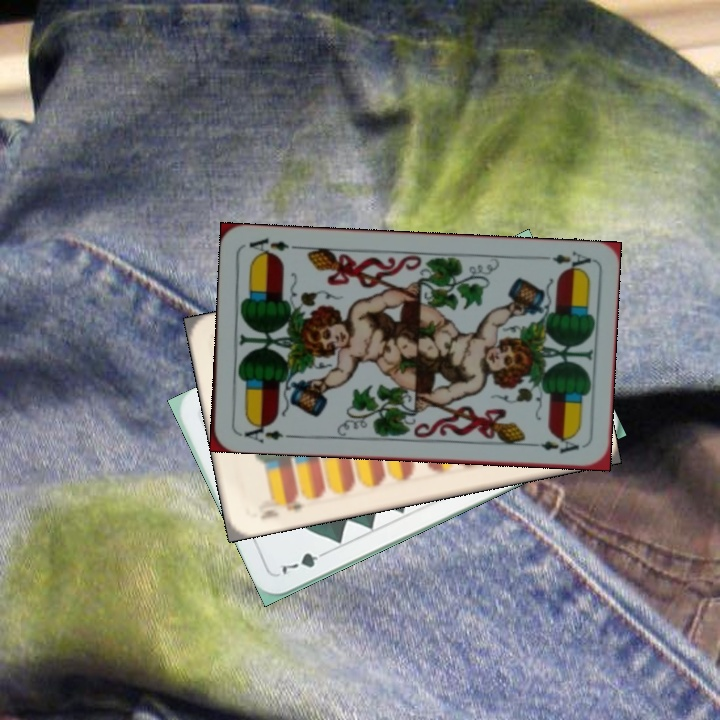E10: (256, 492, 305, 522)
EA: (235, 417, 286, 445), (548, 247, 594, 275)
G7: (277, 546, 332, 578)
